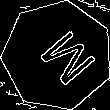M_SW: (23, 22, 92, 89)
